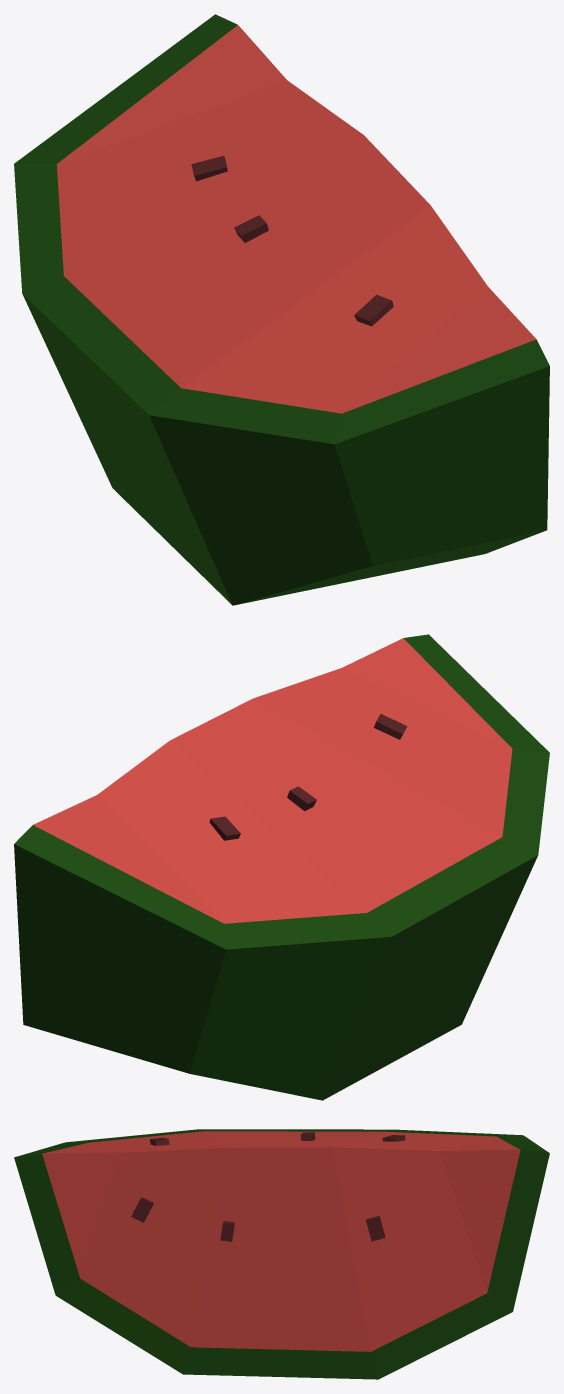
File: watermelonSlice.fbx
3 views of the same model, one above another, from view 1: azimuth 30°, elevation 25°; view 2: azimuth 150°, elevation 25°; view 3: azimuth 270°, elevation 25° (orthographic). The views are drawn at different scales.
Visible parts, largest first — view 1: watermelonSlice; view 2: watermelonSlice; view 3: watermelonSlice.
Part boxes in pixels (x1,y1,x2,y2): watermelonSlice: (14,14,549,605); watermelonSlice: (14,634,549,1100); watermelonSlice: (14,1129,549,1379).
Size of the model in its own units: 15.82 by 14.91 by 31.69.
Materials: 1 (1 with a texture image).
